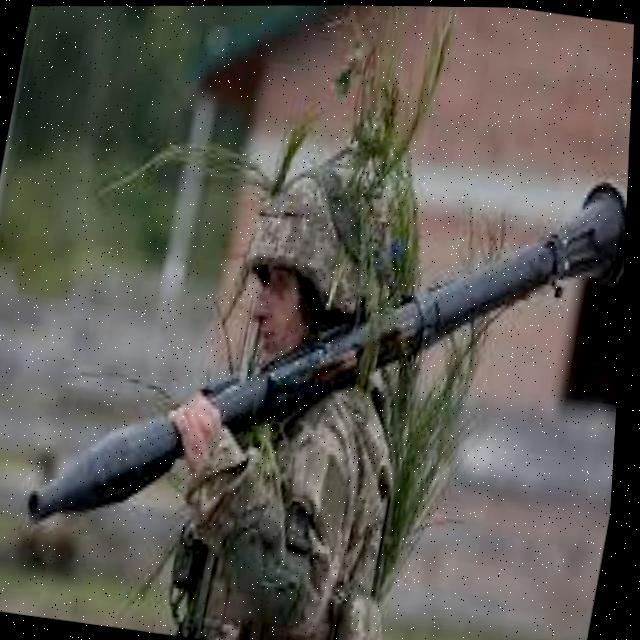rocket: (17, 89, 636, 599)
